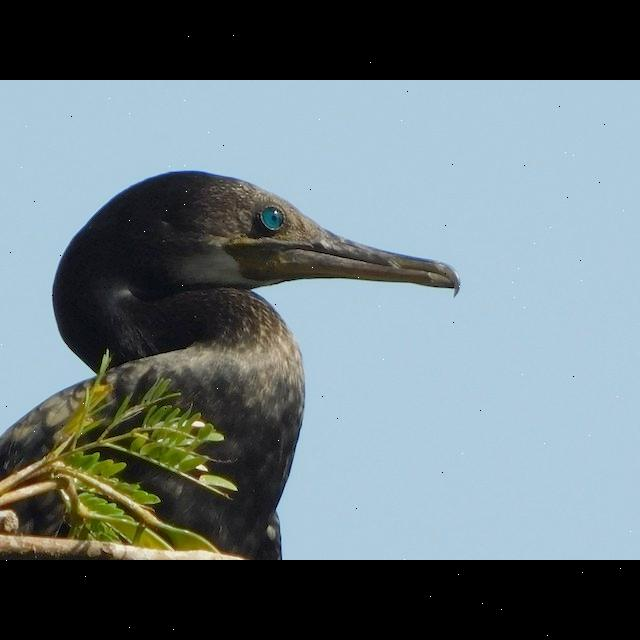cormorant: (0, 157, 474, 547)
